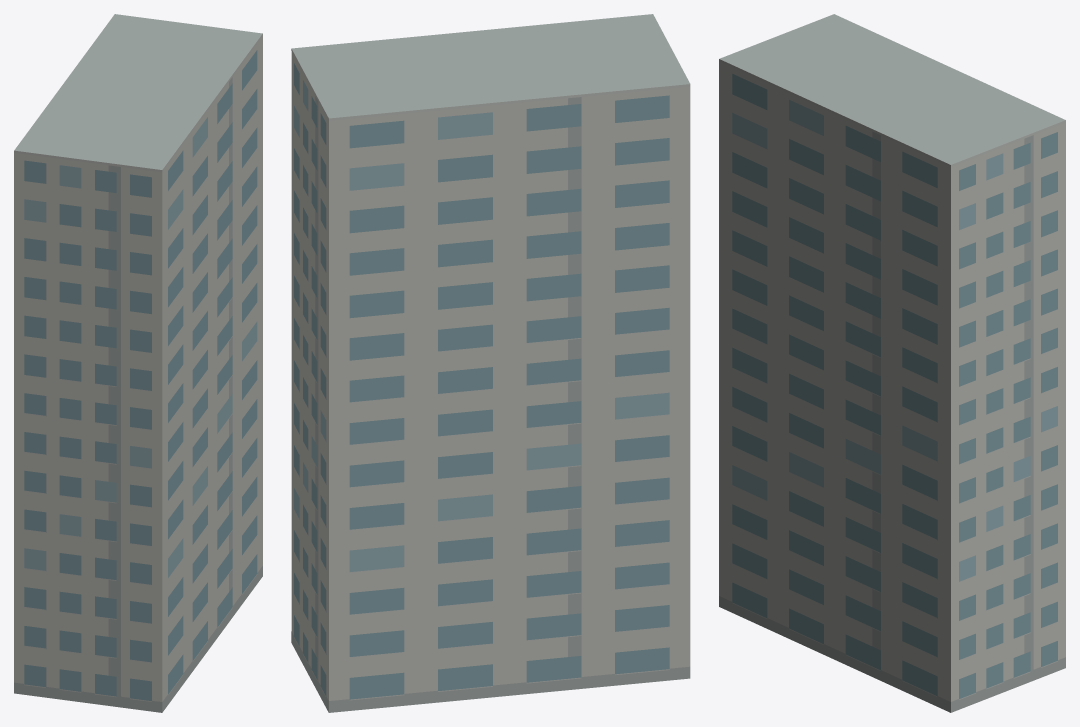
File: residential-18ac99ae-002a-4bb6-86d9-dcba1cb8504c.glb
3 renders of one model, left to right at view 1: azimuth 30°, elevation 25°; view 2: azimuth 150°, elevation 25°; view 3: azimuth 270°, elevation 25°, orthographic. The views are drawn at different scales.
Visible parts, largest first — view 1: residential-18ac99ae-002a-4bb6-86d9-dcba1cb8504c.tmp; view 2: residential-18ac99ae-002a-4bb6-86d9-dcba1cb8504c.tmp; view 3: residential-18ac99ae-002a-4bb6-86d9-dcba1cb8504c.tmp.
Boxes of the visible parts, left/top/right/bottom form: residential-18ac99ae-002a-4bb6-86d9-dcba1cb8504c.tmp: left=14, top=14, right=262, bottom=712; residential-18ac99ae-002a-4bb6-86d9-dcba1cb8504c.tmp: left=291, top=14, right=690, bottom=712; residential-18ac99ae-002a-4bb6-86d9-dcba1cb8504c.tmp: left=719, top=14, right=1065, bottom=712.
Bounding box in the file's own units: 33.69 × 57 × 32.7.
